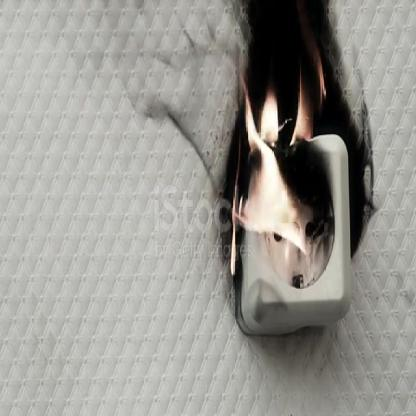fire: (223, 37, 339, 282)
smoke: (92, 0, 251, 243)
